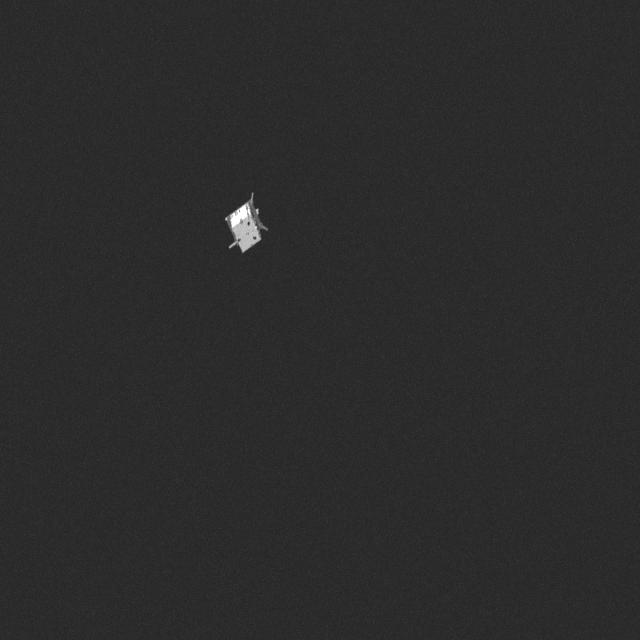medium_debris: (224, 190, 270, 254)
